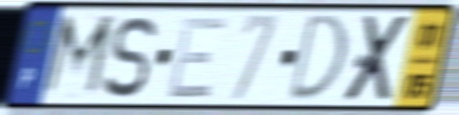7: (228, 11, 285, 105)
D: (284, 12, 350, 105)
E: (163, 14, 232, 102)
M: (37, 11, 119, 102)
S: (100, 13, 160, 101)
X: (339, 13, 415, 106)
